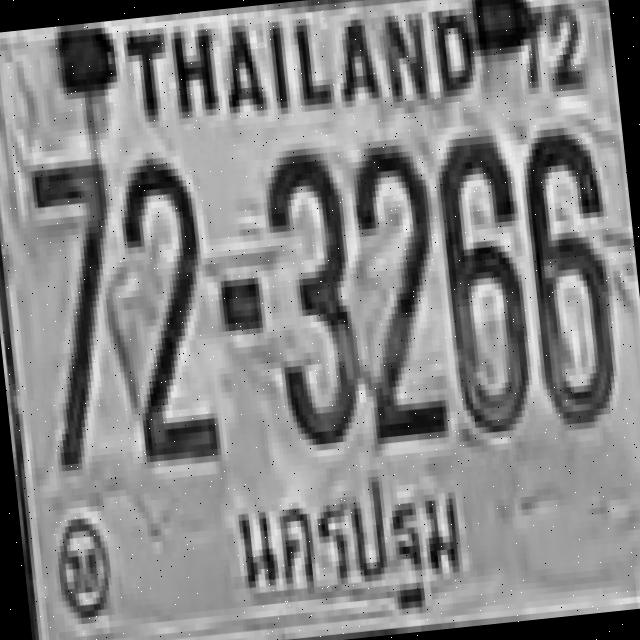2: (340, 134, 450, 442), (111, 151, 218, 459)
3: (257, 140, 363, 448)
6: (515, 118, 625, 426), (431, 127, 537, 435)
7: (26, 151, 132, 465)
NakhonPathom: (214, 448, 480, 640)
